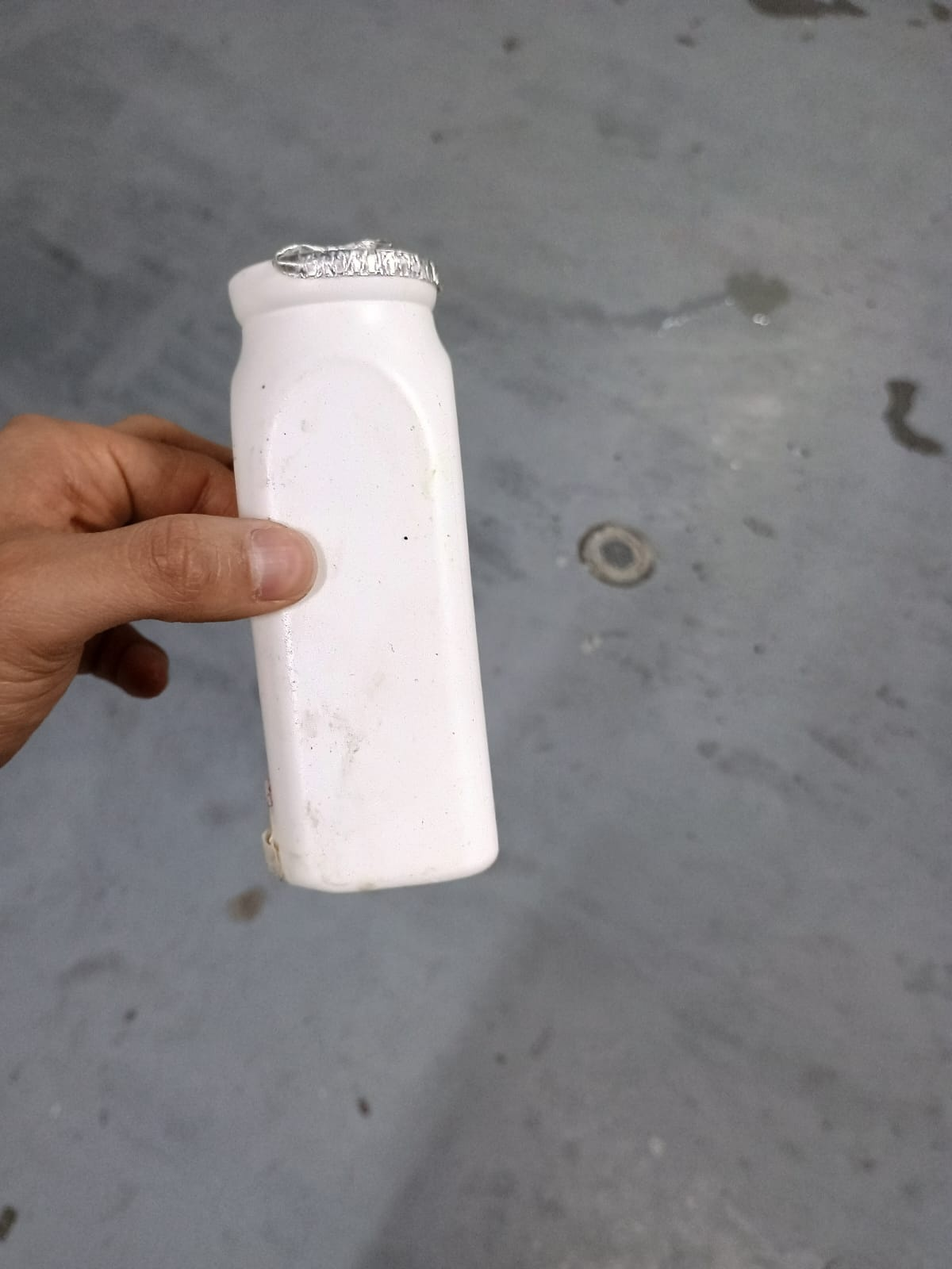Plastico: (225, 242, 501, 896)
